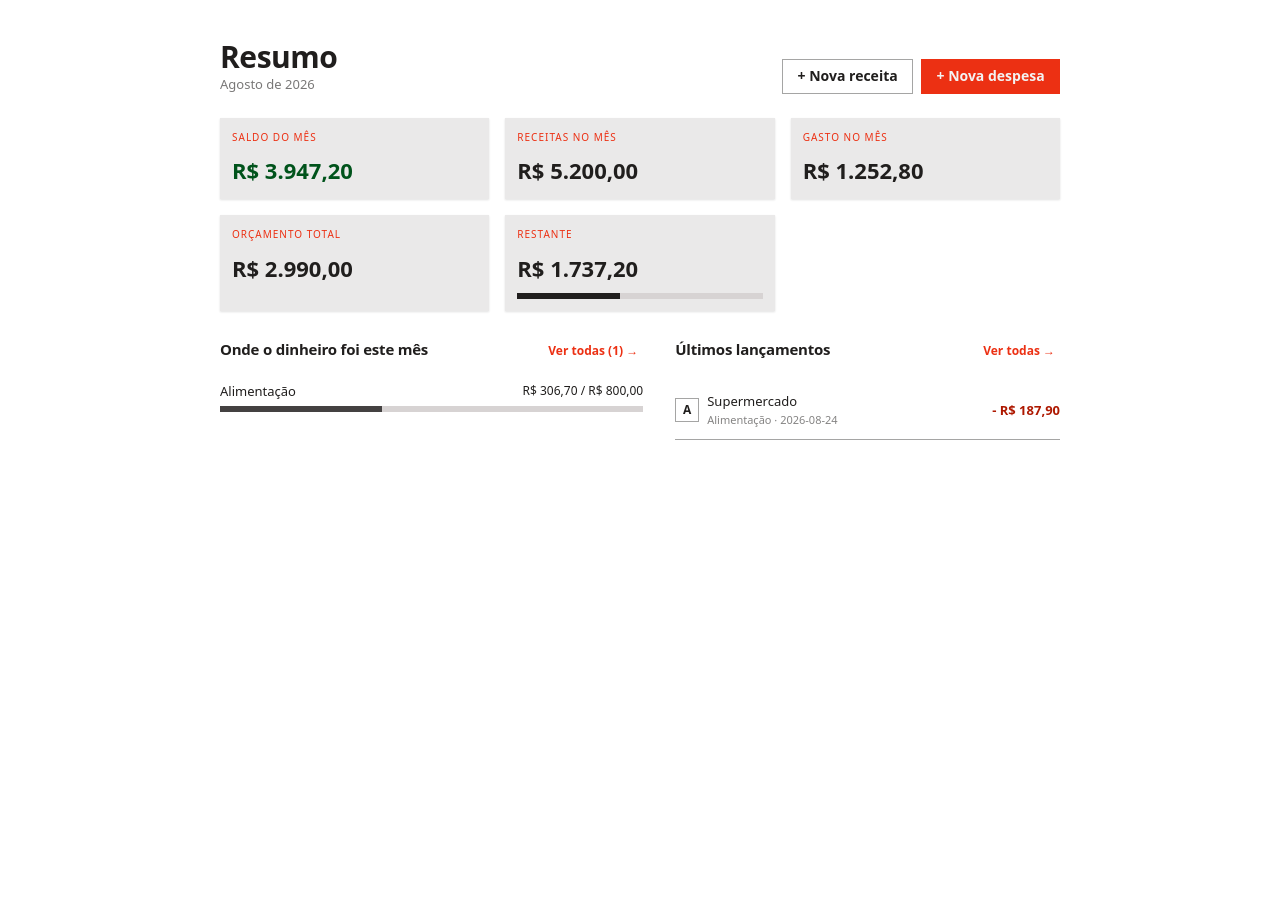
DashboardPage › clicar em "+ Nova despesa" abre o popup fixo em despesa
The image size is (1280, 900).
Expected: the text "R$ 3.947,20" is shown, [232,155,353,185]
Click the button "+ Nova despesa" at {"x": 991, "y": 76}, box [921,59,1060,94]
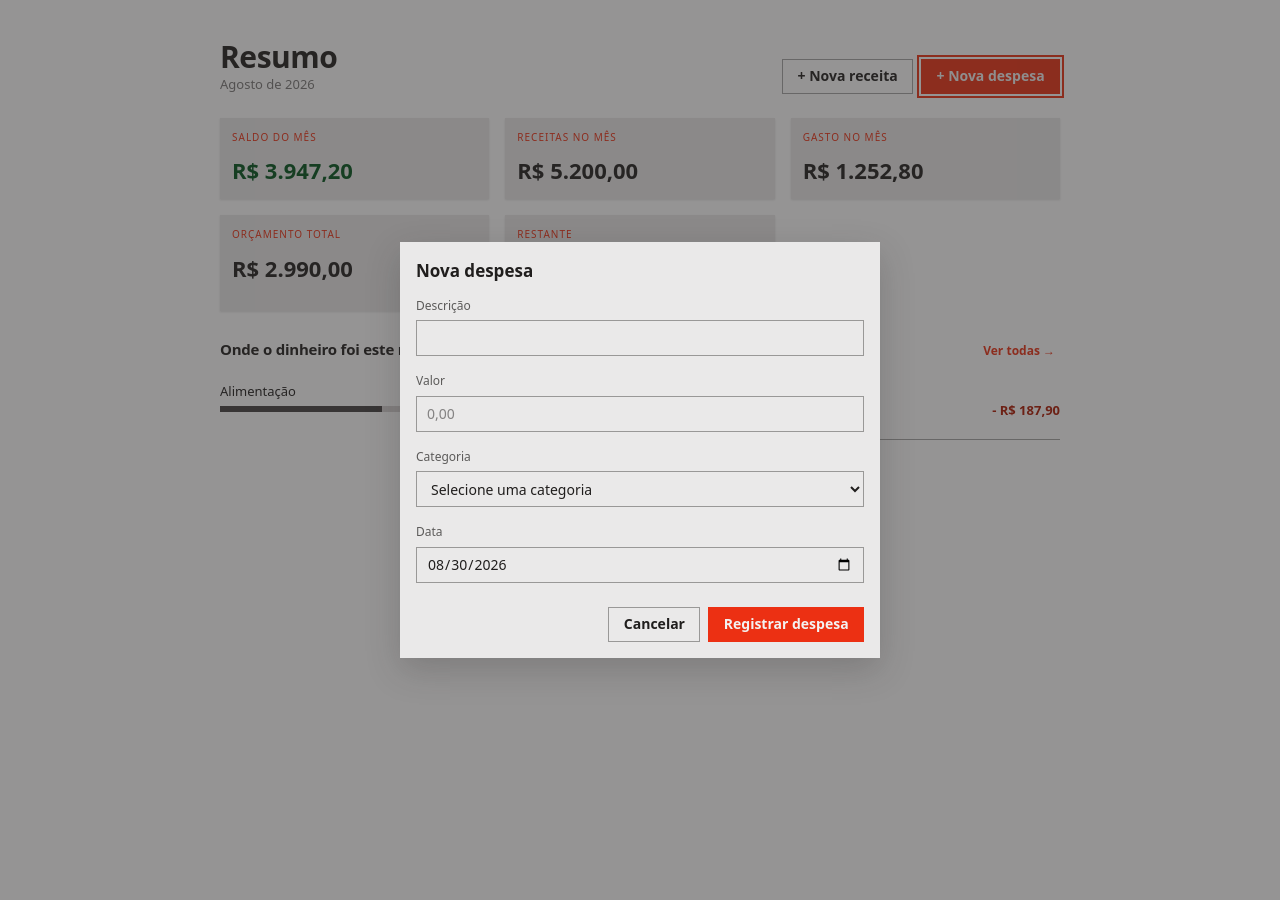
Result: the text "Nova despesa" is shown at [416,259,533,282]
